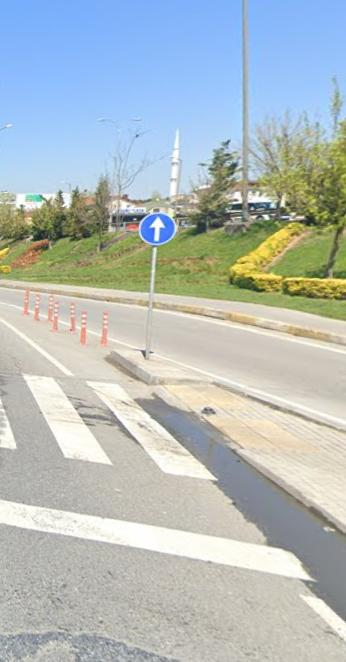forward: (141, 212, 175, 246)
